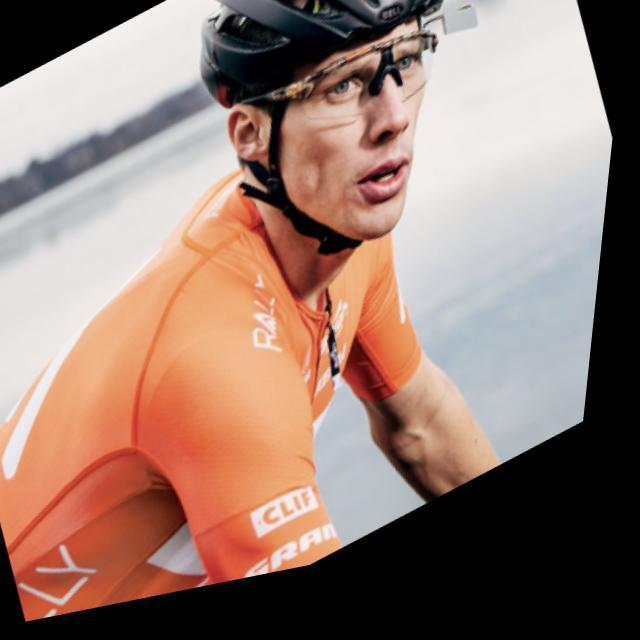Helmet: (197, 0, 446, 251)
